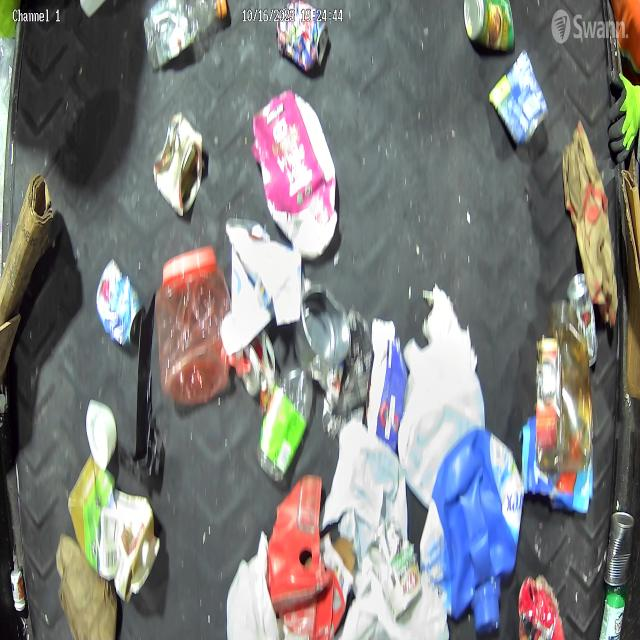can: (487, 48, 549, 148), (153, 110, 206, 220), (295, 284, 352, 385), (368, 517, 422, 623), (96, 256, 148, 348), (275, 0, 330, 75), (566, 270, 599, 369), (463, 0, 515, 52), (603, 508, 636, 588), (240, 328, 276, 394)
non_white_jug: (419, 424, 526, 640), (251, 87, 338, 261)
plastic_bottle: (256, 357, 314, 481), (143, 0, 229, 72)
